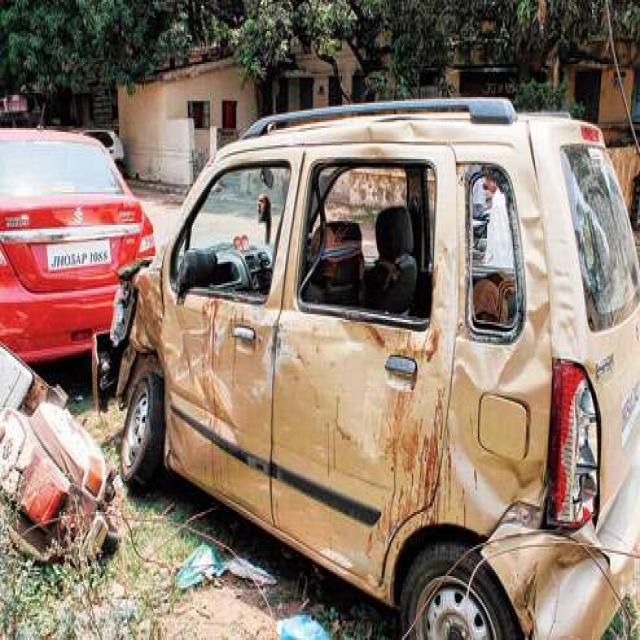accident: (99, 99, 640, 637)
car: (0, 129, 155, 362)
